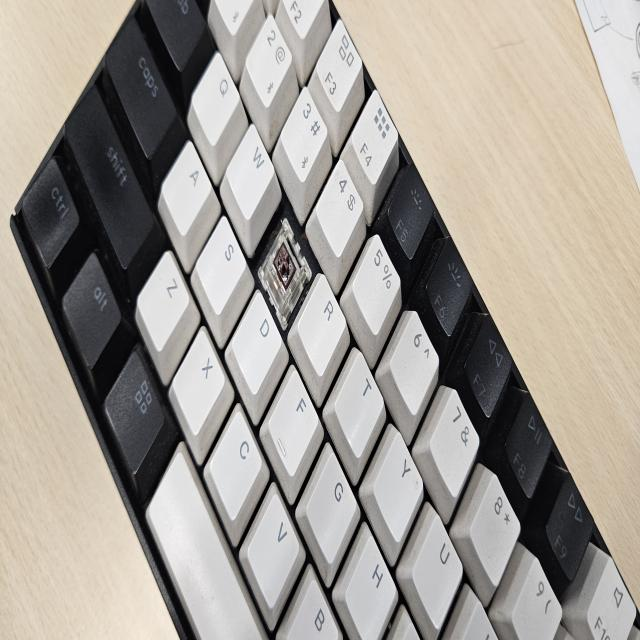C: (267, 225, 300, 294), (273, 233, 294, 284)
